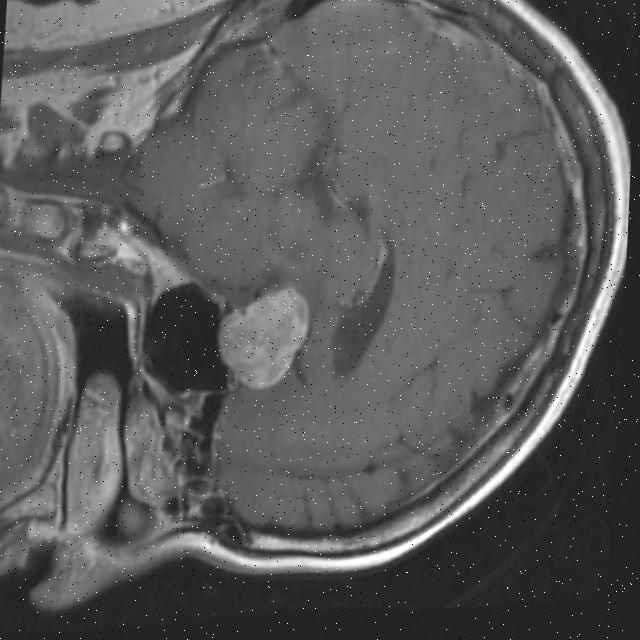Pituitary: (214, 284, 311, 392)
